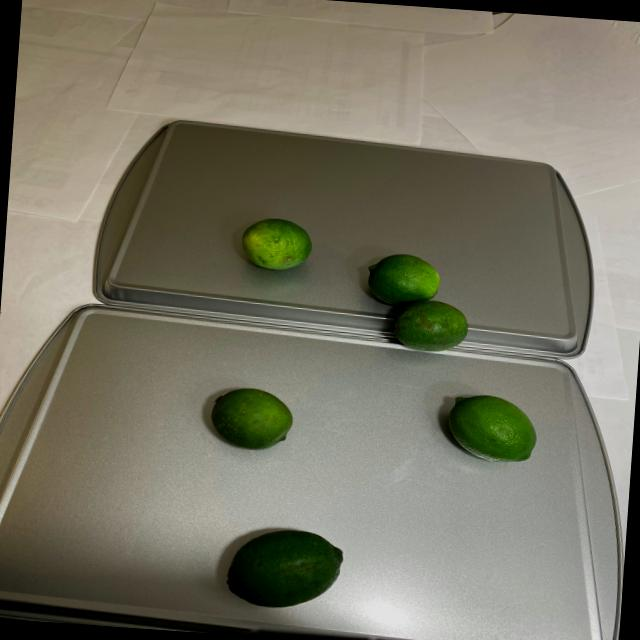lemon: (230, 216, 478, 358), (222, 525, 362, 616), (442, 384, 540, 472), (207, 386, 296, 452)
